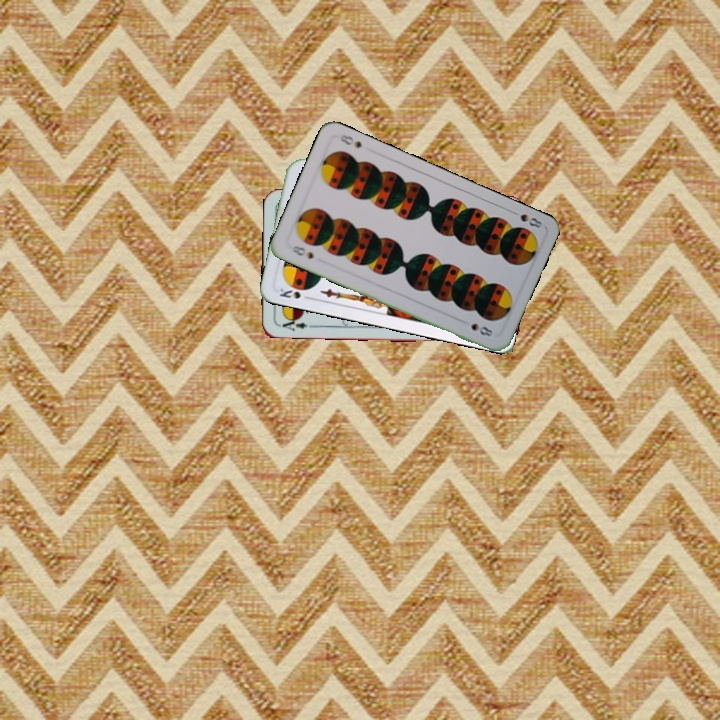EA: (279, 313, 315, 333)
S8: (506, 206, 545, 231), (287, 241, 316, 262)
SK: (275, 283, 314, 302)
